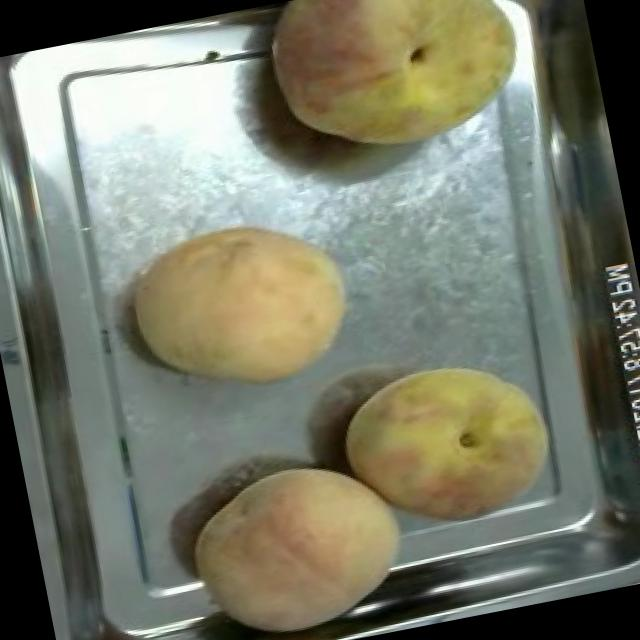Fruit: (115, 194, 375, 412), (249, 0, 544, 181), (326, 336, 572, 548), (171, 438, 428, 640)
